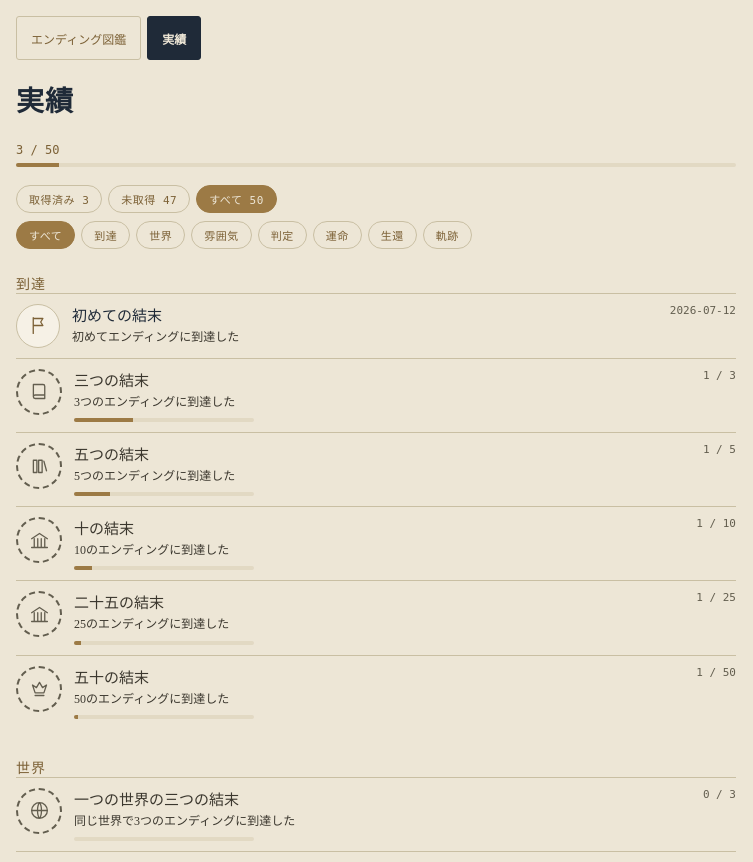
AchievementList › filters down to the unearned achievements
This screenshot has width=753, height=862.
What coordinates should you click on to do the following:
click the button "未取得 47"
I would click on:
 (149, 199)
Its box is top-left (108, 185), bottom-right (190, 213).
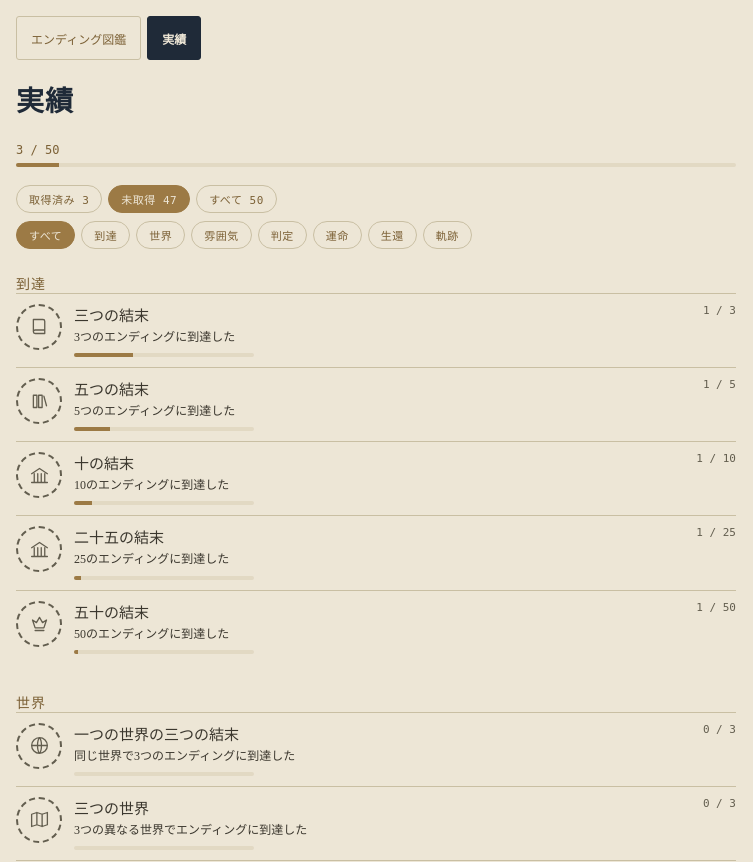
Expected: the text "五十の結末" is shown, top-left (74, 606), bottom-right (149, 622)
Result: the text "初めての結末" is gone
